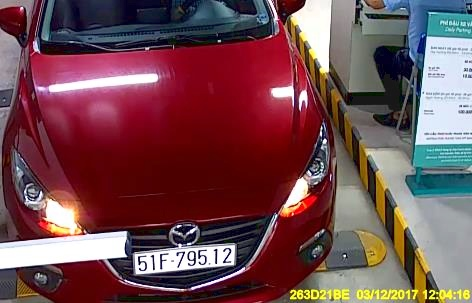plate: (133, 245, 235, 270)
